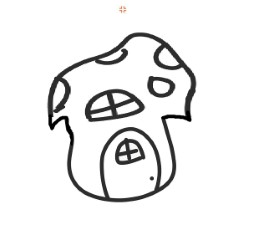closed_window: (83, 77, 149, 123)
door: (95, 123, 165, 205)
single_line_roof: (36, 22, 203, 131)
wall: (58, 114, 182, 205)
